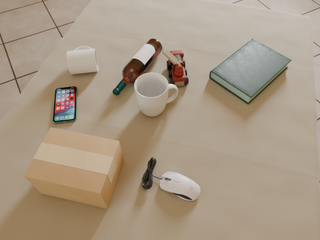book: (209, 38, 292, 104)
bottle: (113, 39, 162, 95)
box: (24, 128, 124, 209)
cup: (134, 73, 178, 117), (67, 46, 98, 74)
mouse: (159, 172, 200, 201)
phone: (53, 87, 77, 123)
toy_car: (162, 48, 188, 86)
